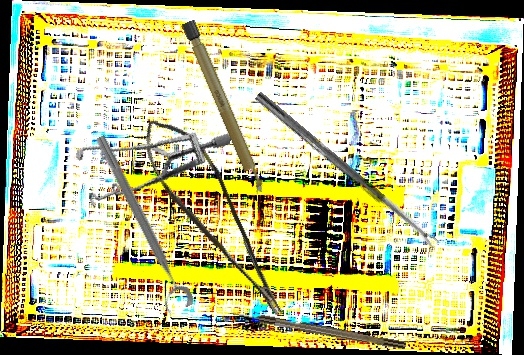Fixation Ring: (81, 132, 196, 317)
Hook Surgical: (230, 308, 407, 351)
Micro Scissor: (130, 101, 291, 338)
Scalpel Handle: (180, 19, 267, 196)
Speculum: (62, 89, 233, 242)
Surgical Spoon: (253, 91, 440, 250)
